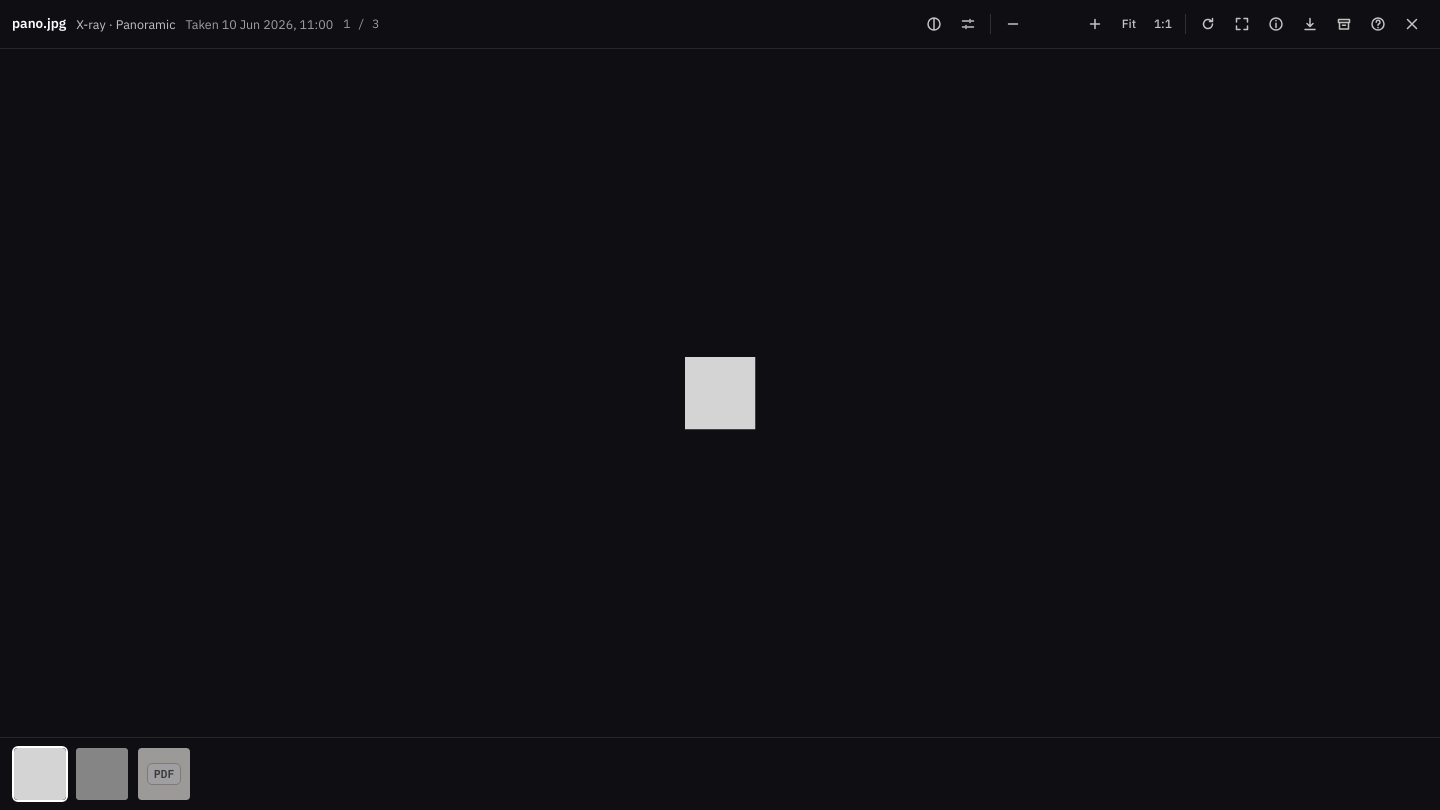
Test: viewer (§4) › rotates for viewing only until Save orientation stores it
The image size is (1440, 810).
Expected: the text "1 / 3" is shown, [343,16,379,32]
Expected: the button "Save orientation" is not shown
Click the button named "Rotate": [1208, 24] box [1192,8,1224,40]
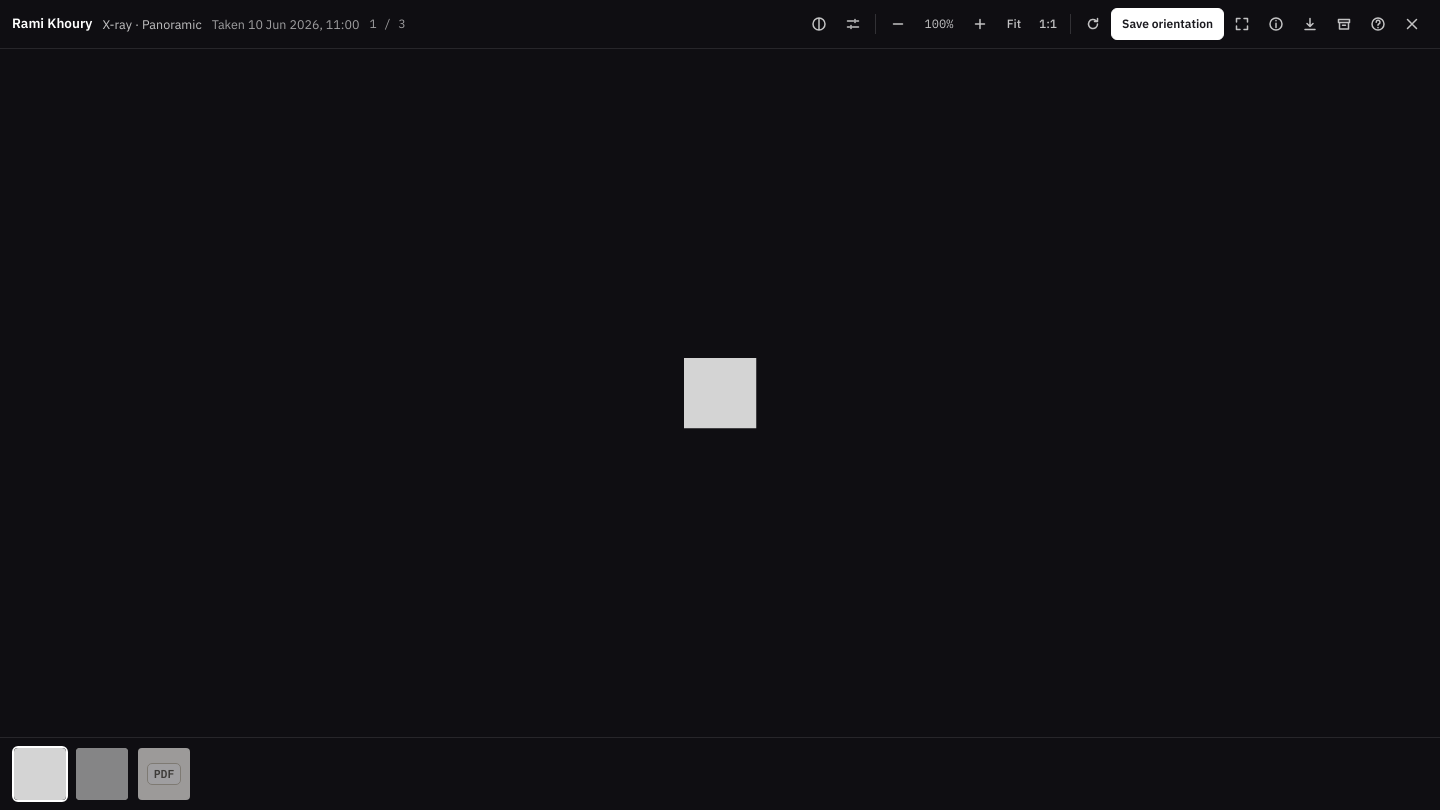
Press r in the button named "Close", box [1396,8,1428,40]
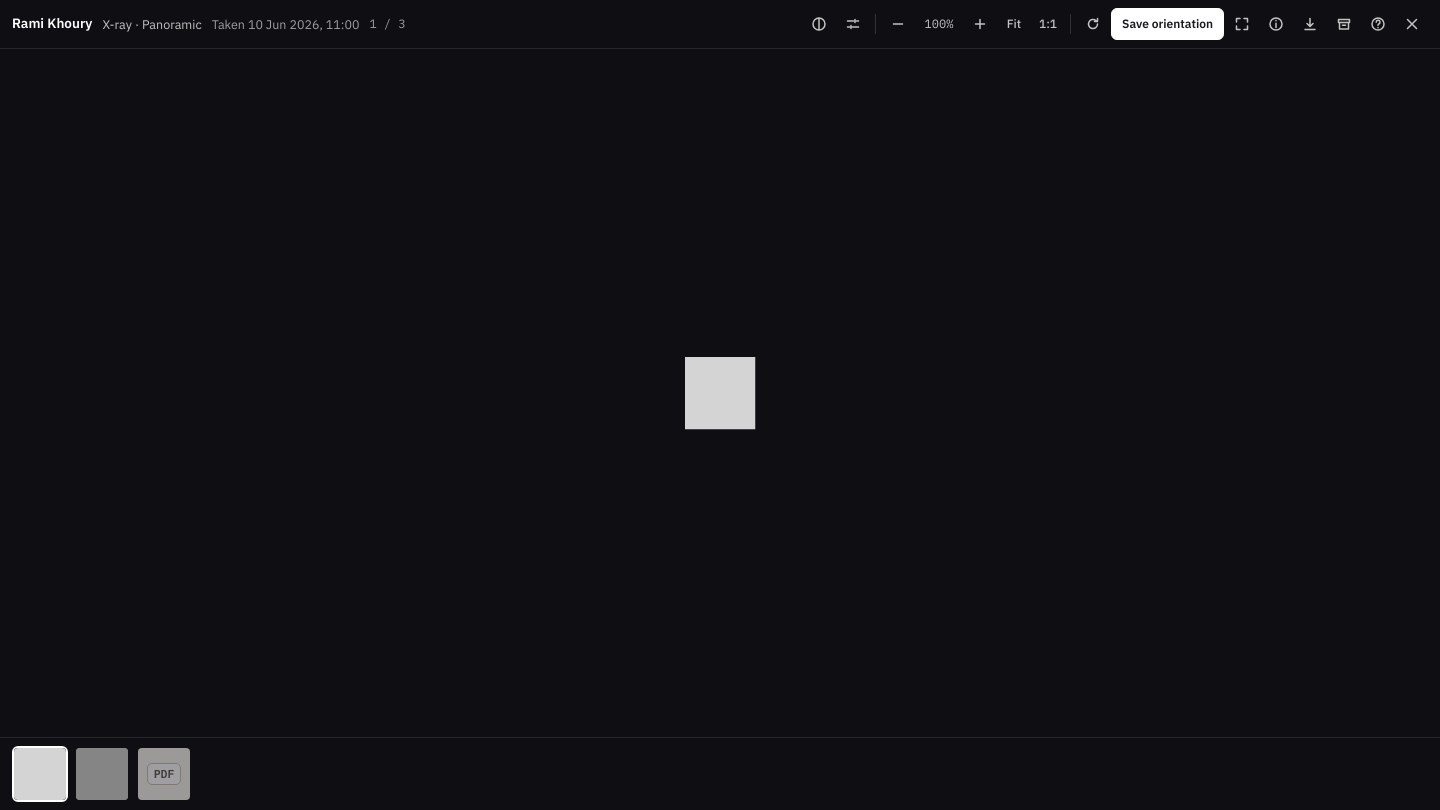
Click the button "Save orientation": [1168, 24] box [1111,8,1224,40]
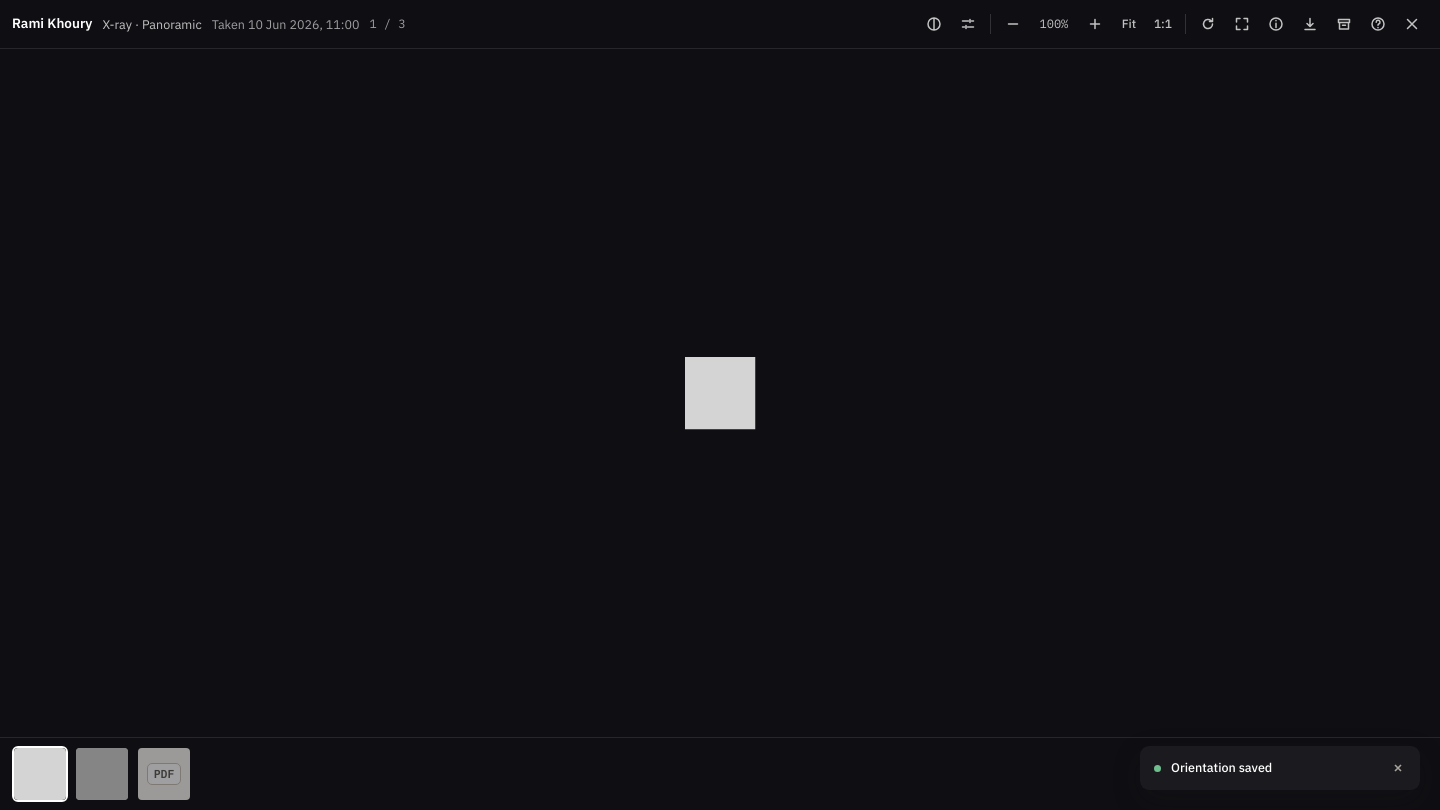
Result: the text "Orientation saved" is shown at [1171,759,1272,775]
Result: the button "Save orientation" is gone
